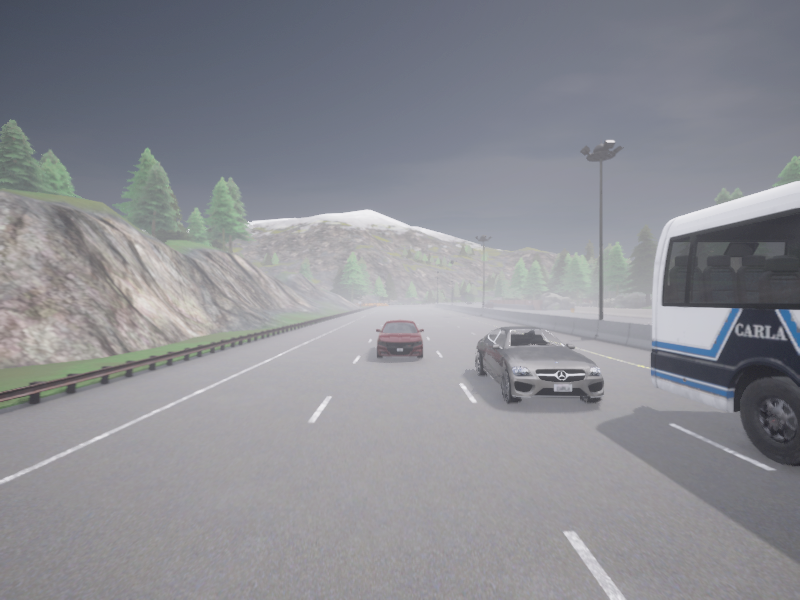vehicle: (650, 181, 799, 465), (476, 326, 603, 403), (376, 320, 423, 359), (484, 301, 493, 308), (467, 302, 472, 304)
